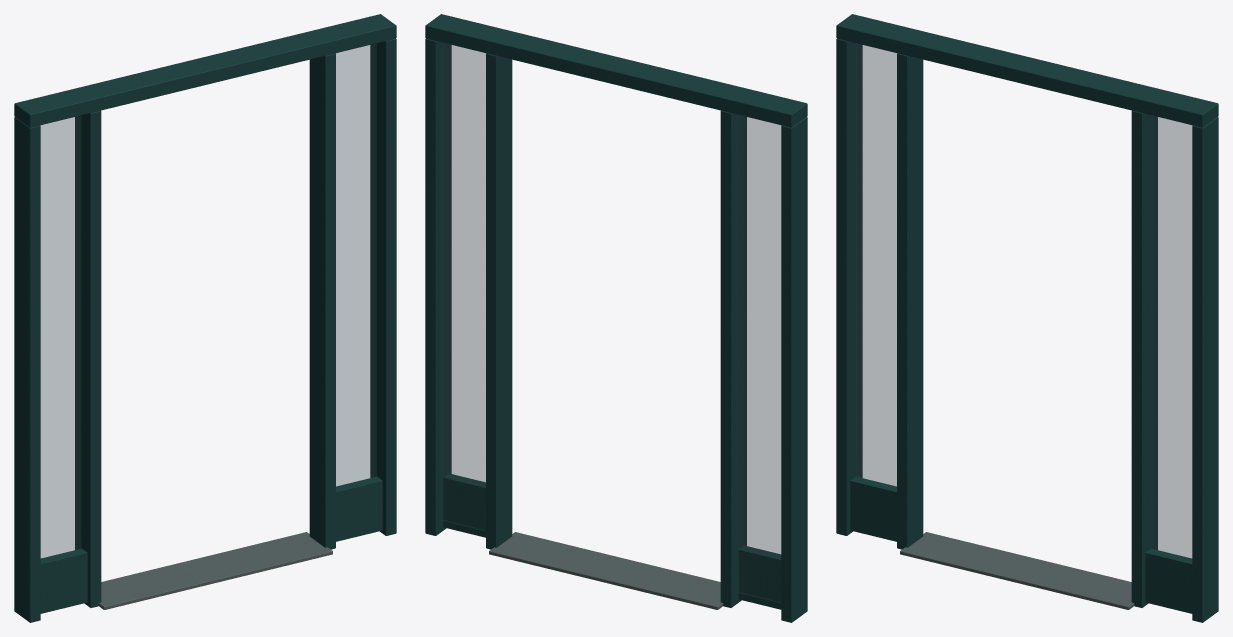
The model's file is storefront_entry_frame_2m.glb.
3 renders of one model, left to right at view 1: azimuth 30°, elevation 25°; view 2: azimuth 150°, elevation 25°; view 3: azimuth 330°, elevation 25°, orthographic.
Visible parts, largest first — view 1: storefront_entry_frame_2m; view 2: storefront_entry_frame_2m; view 3: storefront_entry_frame_2m.
Part boxes in pixels (x1,y1,x2,y2): storefront_entry_frame_2m: (14,14,396,622); storefront_entry_frame_2m: (425,14,807,622); storefront_entry_frame_2m: (836,14,1218,622).
Size of the model in its own units: 2 by 2.65 by 0.25.
3 materials, 3 textured.
